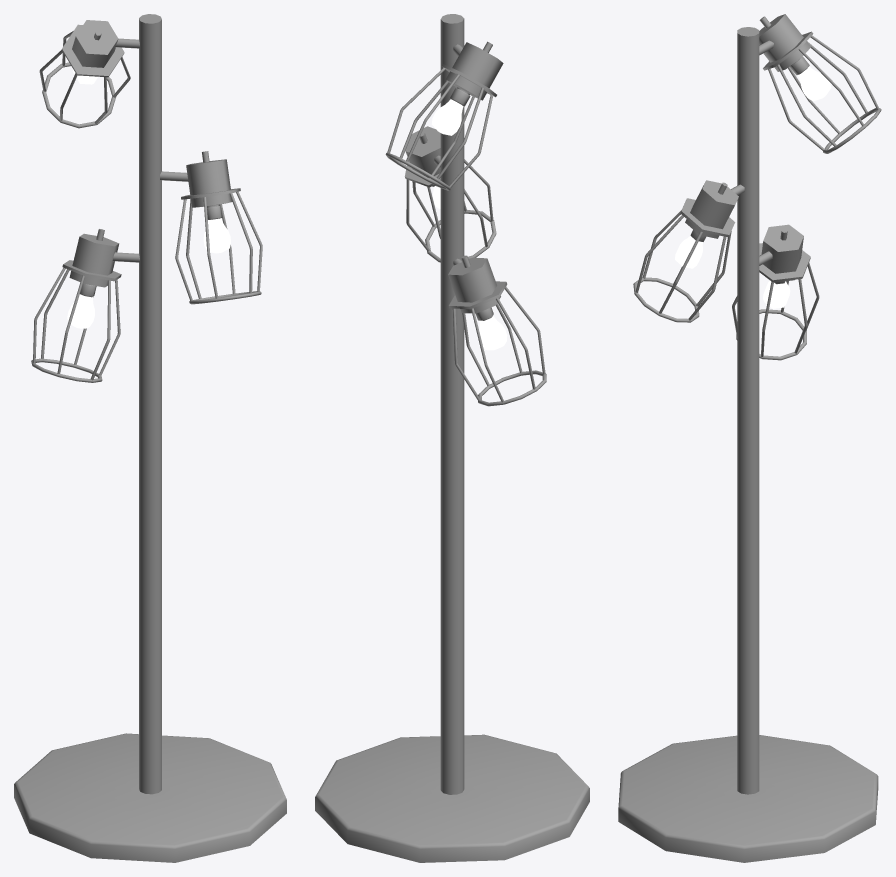
Rendered from Lights_Floor_Lamps_3.fbx.
The picture shows the model from 3 angles, left to right: view 1: azimuth 30°, elevation 25°; view 2: azimuth 150°, elevation 25°; view 3: azimuth 270°, elevation 25°; orthographic projection.
Parts seen in each view (by area): view 1: Cylinder.039; view 2: Cylinder.039; view 3: Cylinder.039.
Part boxes in pixels (x1=…): Cylinder.039: x1=14, y1=14, x2=286, y2=862; Cylinder.039: x1=315, y1=14, x2=589, y2=862; Cylinder.039: x1=618, y1=14, x2=881, y2=862.
Bounding box in the file's own units: 56.87 × 179 × 55.3.
